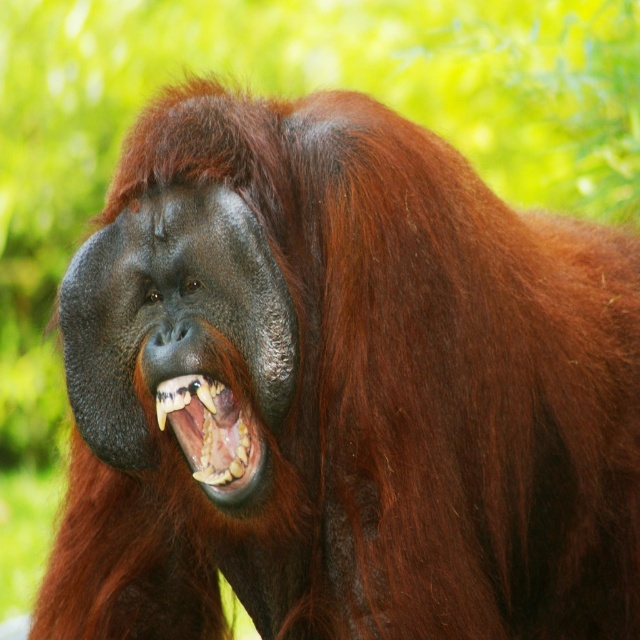Monkey: (18, 70, 638, 638)
